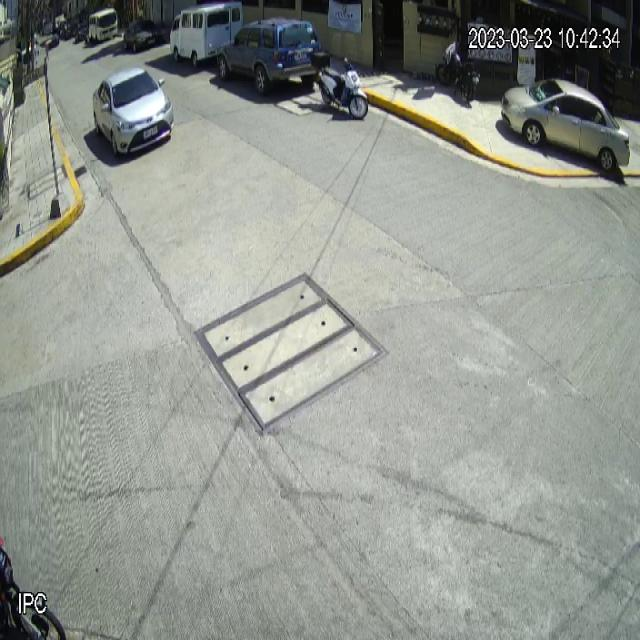Car: (500, 78, 630, 174), (217, 16, 322, 89), (92, 66, 174, 156)
Motorcycle: (310, 50, 369, 117)
Van: (169, 2, 244, 68)
